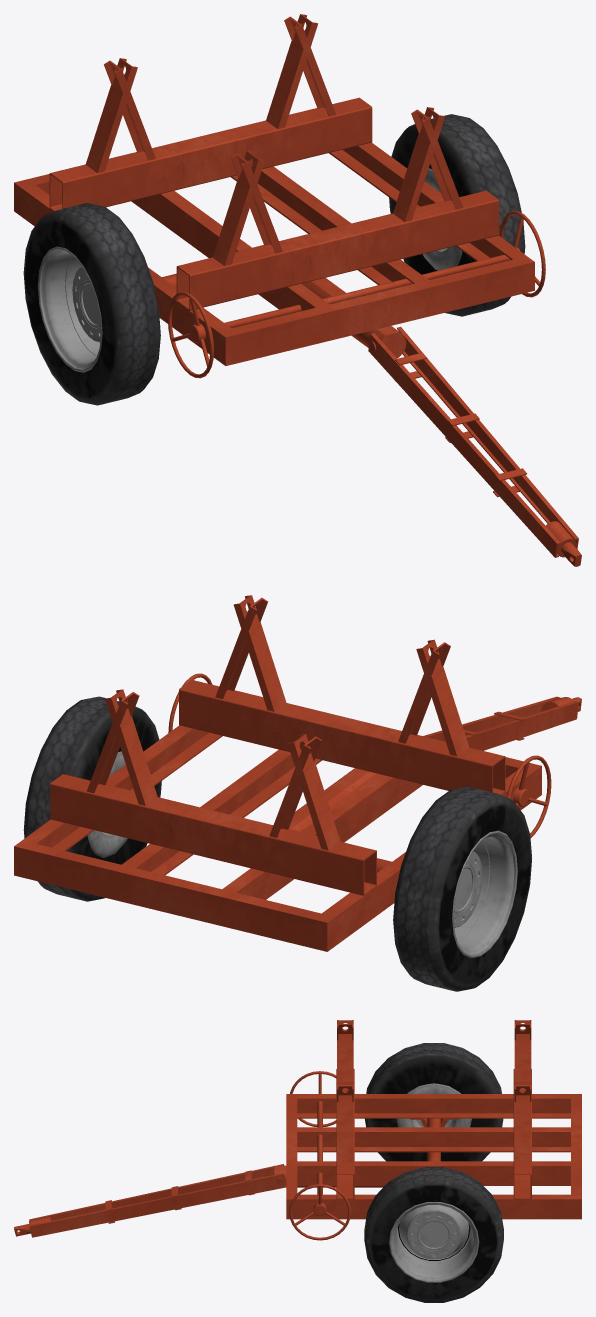
File: luntaishiyunshuche-WLT-15.FBX
3 renders of one model, top to bottom at view 1: azimuth 30°, elevation 25°; view 2: azimuth 150°, elevation 25°; view 3: azimuth 270°, elevation 25°, orthographic. The views are drawn at different scales.
Visible parts, largest first — view 1: Line002, Box002, Box001; view 2: Line002, Box002, Box001; view 3: Line002, Box002, Box001.
Boxes of the visible parts, x1,y1,x2,y2 form: Line002: (14,14,545,378); Box002: (23,114,525,405); Box001: (368,326,581,566); Line002: (14,595,551,951); Box002: (23,696,531,991); Box001: (423,696,581,750); Line002: (274,1020,581,1240); Box002: (364,1043,503,1302); Box001: (14,1164,286,1237).
Size of the model in its own units: 180 by 109 by 307.
2 materials, 2 textured.
